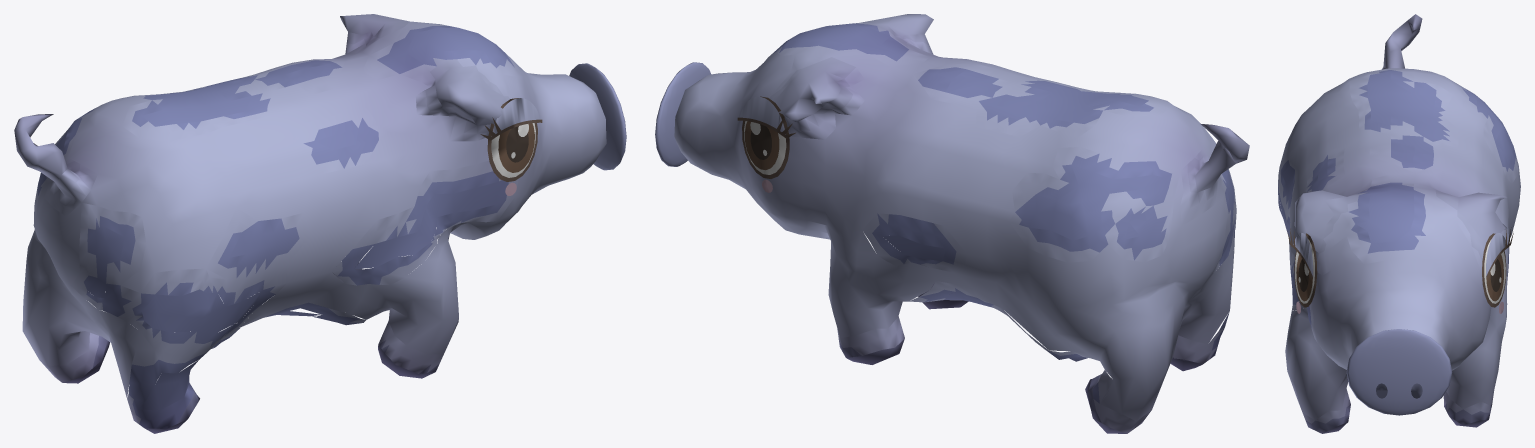
File: blueberry_pig.glb
3 renders of one model, left to right at view 1: azimuth 30°, elevation 25°; view 2: azimuth 150°, elevation 25°; view 3: azimuth 270°, elevation 25°, orthographic. The views are drawn at different scales.
Parts seen in each view (by area): view 1: blueberry_pig; view 2: blueberry_pig; view 3: blueberry_pig.
Part boxes in pixels (x1,y1,x2,y2): blueberry_pig: (14,14,626,433); blueberry_pig: (655,14,1249,433); blueberry_pig: (1278,14,1520,433).
Size of the model in its own units: 0.8279 by 0.4165 by 0.3386.
